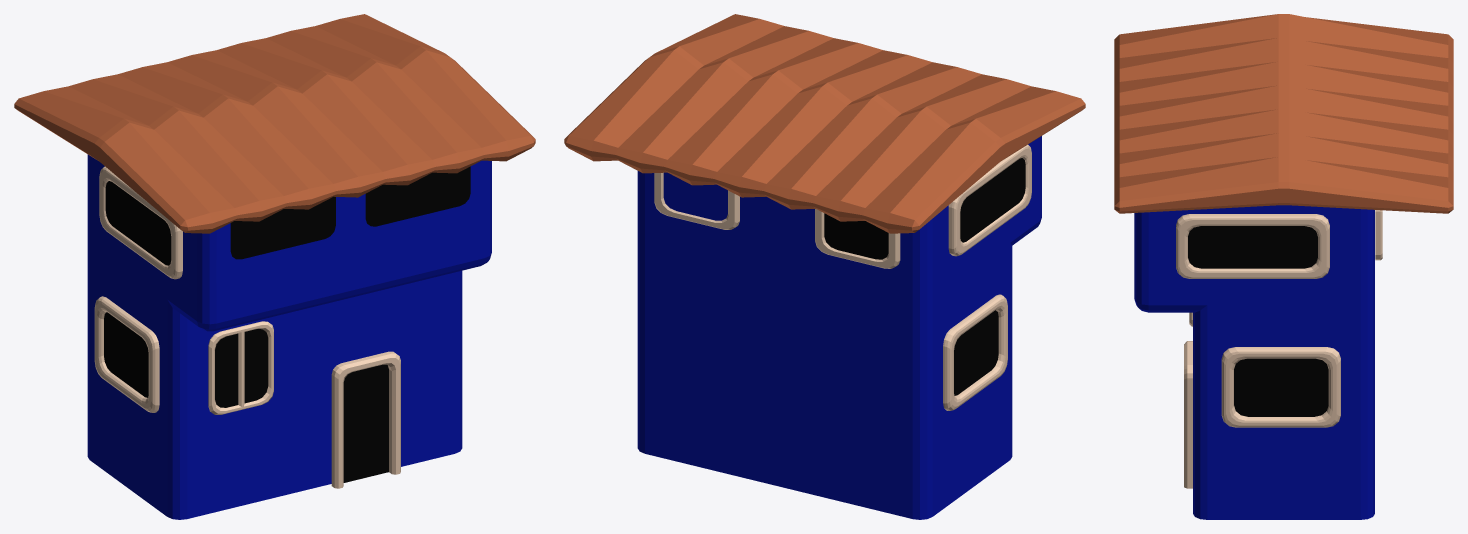
File: Brezilya_Evi.fbx
The picture shows the model from 3 angles, left to right: view 1: azimuth 30°, elevation 25°; view 2: azimuth 150°, elevation 25°; view 3: azimuth 270°, elevation 25°; orthographic projection.
Parts seen in each view (by area): view 1: Cube.003; view 2: Cube.003; view 3: Cube.003.
Boxes of the visible parts, x1,y1,x2,y2 form: Cube.003: (14,14,535,519); Cube.003: (564,14,1085,519); Cube.003: (1114,14,1453,519).
Bounding box in the file's own units: 67.81 × 67.56 × 56.75.
